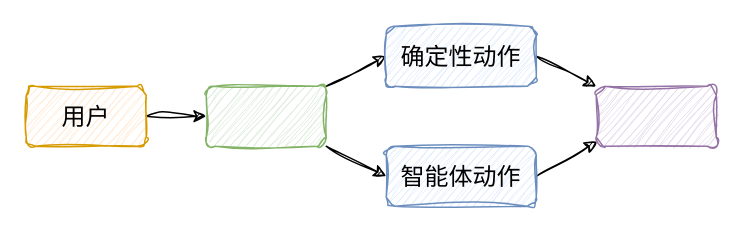
Image size: 743x233. Some labels were removed from this diagram. Here are the shapes that lost their labels. From the top down, the centre of each, then its label:
At point 265,115: "条件".
At point 655,115: "输出".
